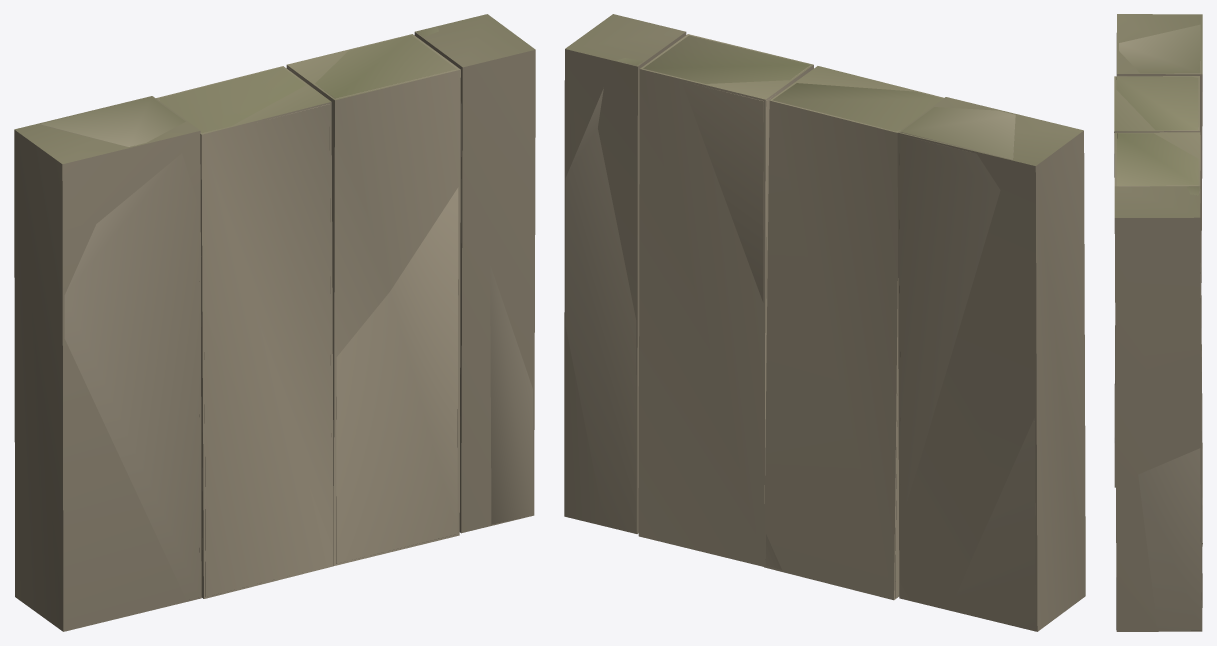
The model's file is tombs_step.glb.
The picture shows the model from 3 angles, left to right: view 1: azimuth 30°, elevation 25°; view 2: azimuth 150°, elevation 25°; view 3: azimuth 270°, elevation 25°; orthographic projection. The views are drawn at different scales.
Parts seen in each view (by area): view 1: tombs_step_far, tombs_step; view 2: tombs_step_far, tombs_step; view 3: tombs_step_far, tombs_step.
Part boxes in pixels (x1,y1,x2,y2): tombs_step_far: [14, 14, 535, 631]; tombs_step: [39, 27, 532, 599]; tombs_step_far: [564, 14, 1085, 631]; tombs_step: [565, 35, 1035, 629]; tombs_step_far: [1114, 14, 1202, 631]; tombs_step: [1114, 24, 1202, 630].
Bounding box in the file's own units: 16.96 × 16.14 × 3.11.
